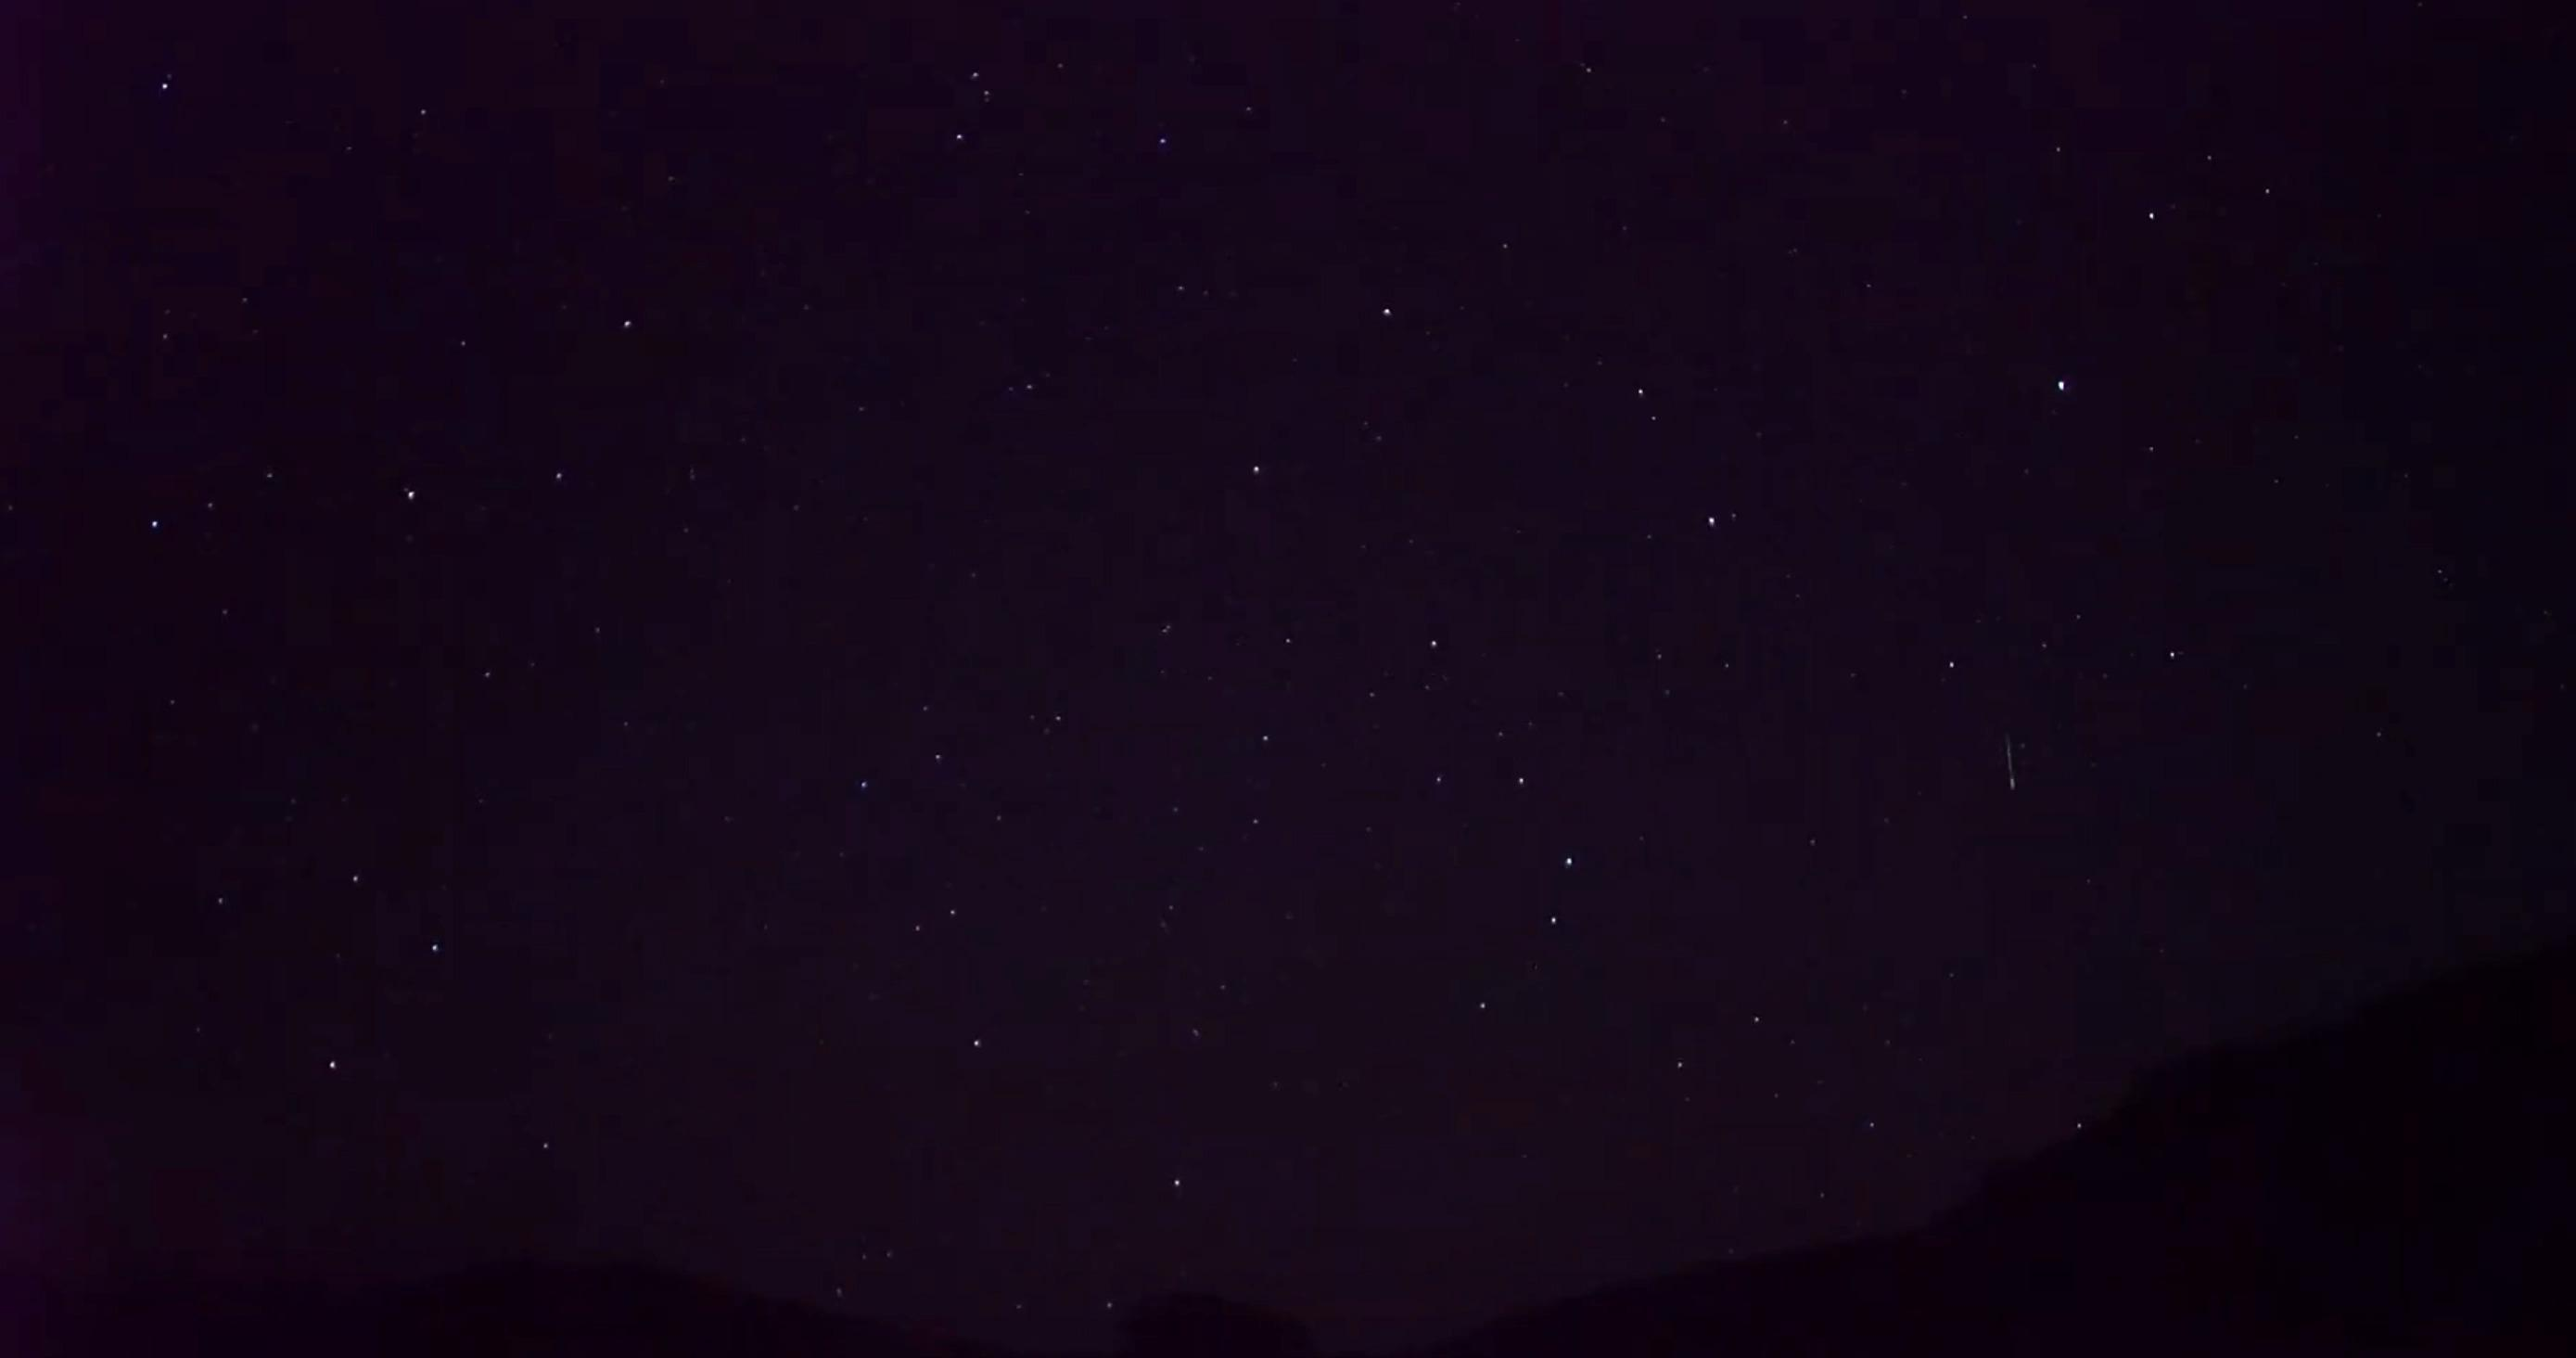meteorite: (1958, 728, 2065, 804)
